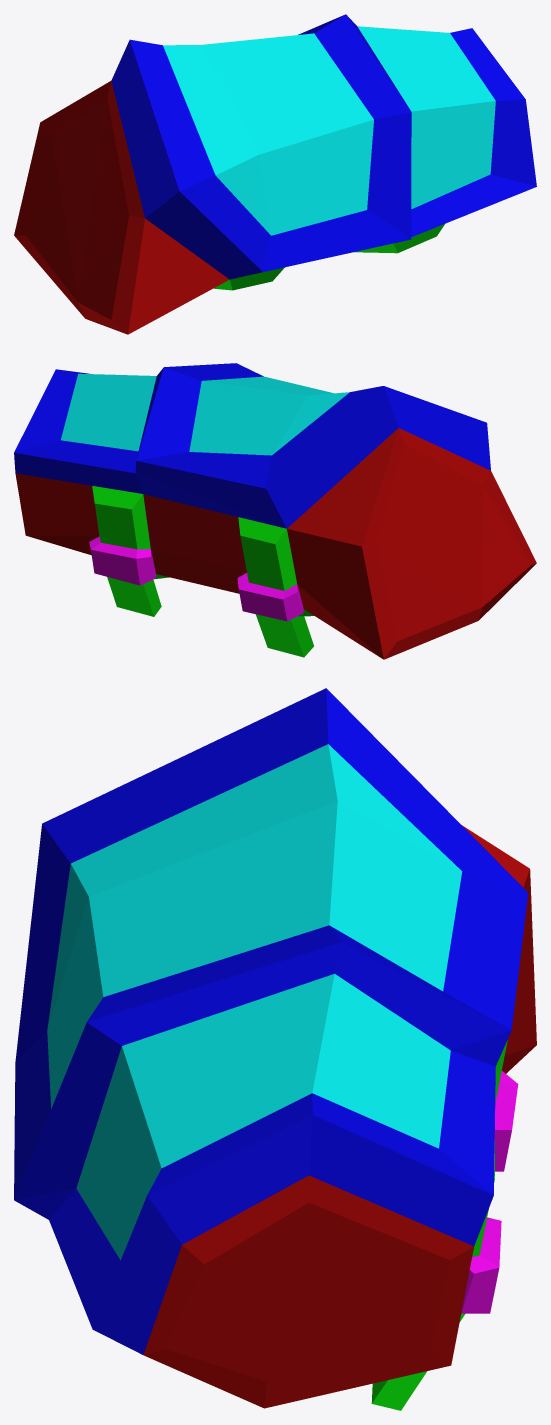
File: Chr_ArmUpperLeft_Male_Static_12.fbx
3 renders of one model, top to bottom at view 1: azimuth 30°, elevation 25°; view 2: azimuth 150°, elevation 25°; view 3: azimuth 270°, elevation 25°, orthographic. The views are drawn at different scales.
Parts seen in each view (by area): view 1: Chr_ArmUpperLeft_Male_12; view 2: Chr_ArmUpperLeft_Male_12; view 3: Chr_ArmUpperLeft_Male_12.
Boxes of the visible parts, left/top/right/bottom form: Chr_ArmUpperLeft_Male_12: left=14, top=14, right=536, bottom=334; Chr_ArmUpperLeft_Male_12: left=14, top=363, right=536, bottom=659; Chr_ArmUpperLeft_Male_12: left=14, top=688, right=536, bottom=1410.
Size of the model in its own units: 32.55 by 19.45 by 18.38.
